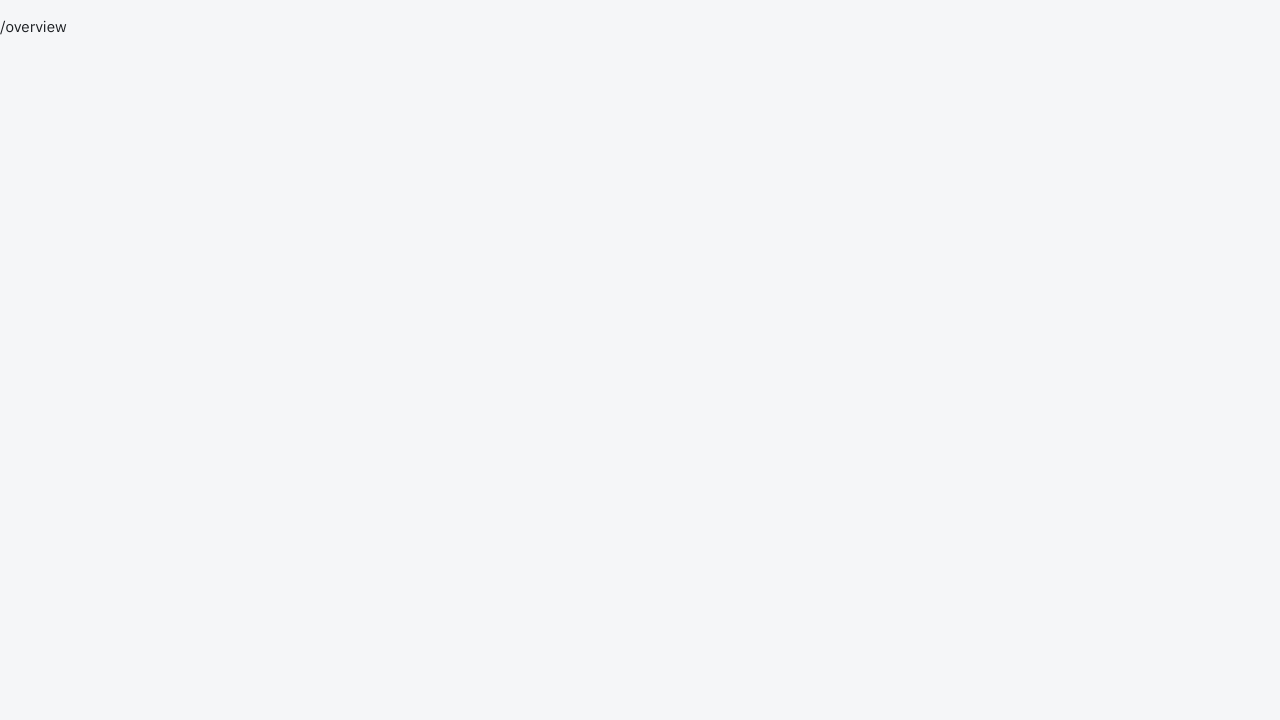
Test: CommandPalette › ranks matches and navigates on Enter
The image size is (1280, 720).
Press k
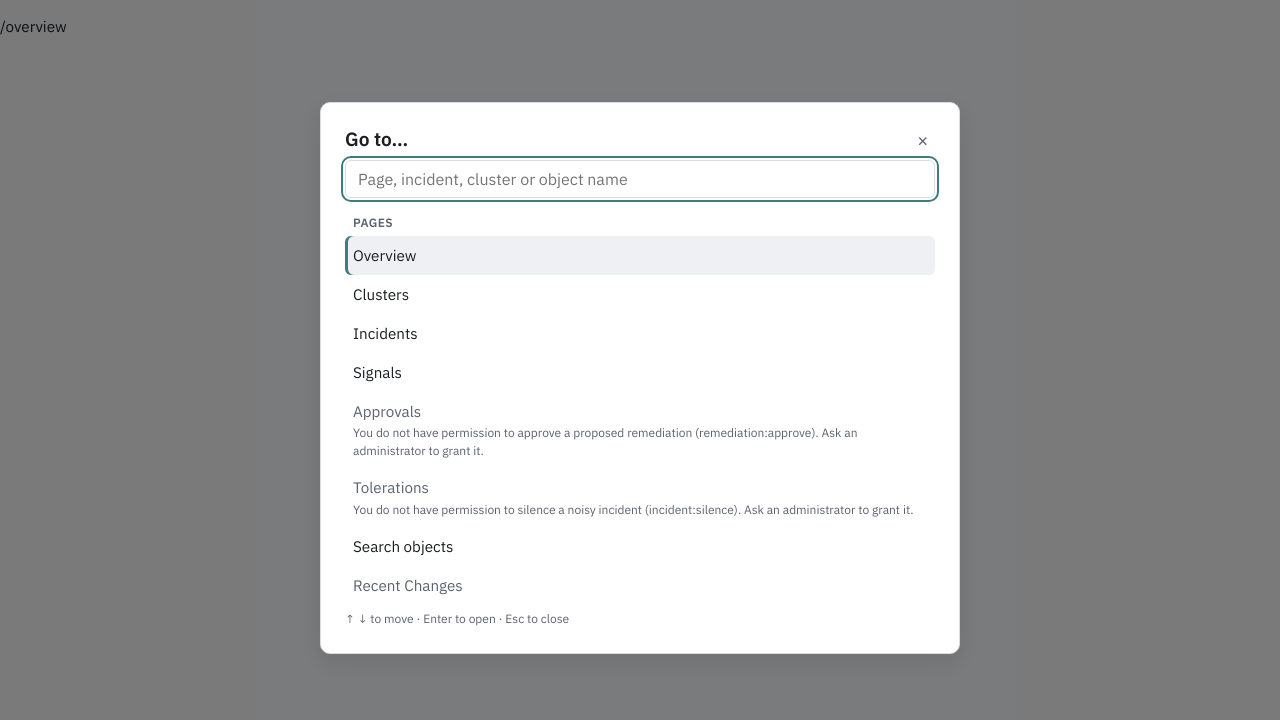
In the dropdown: (640, 179) [345,160,935,198], type "prod"
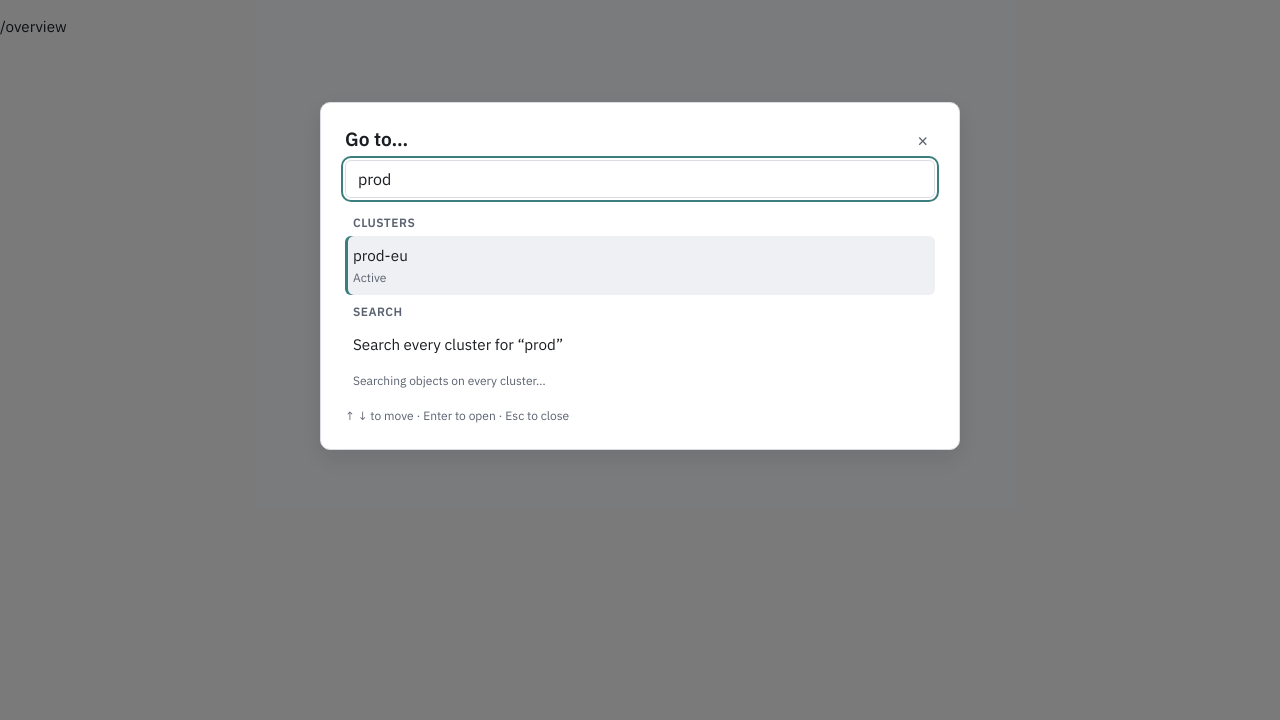
Result: the option "prod-eu Active" is shown at [345,236,935,295]
Press Enter in the dropdown, box [345,160,935,198]
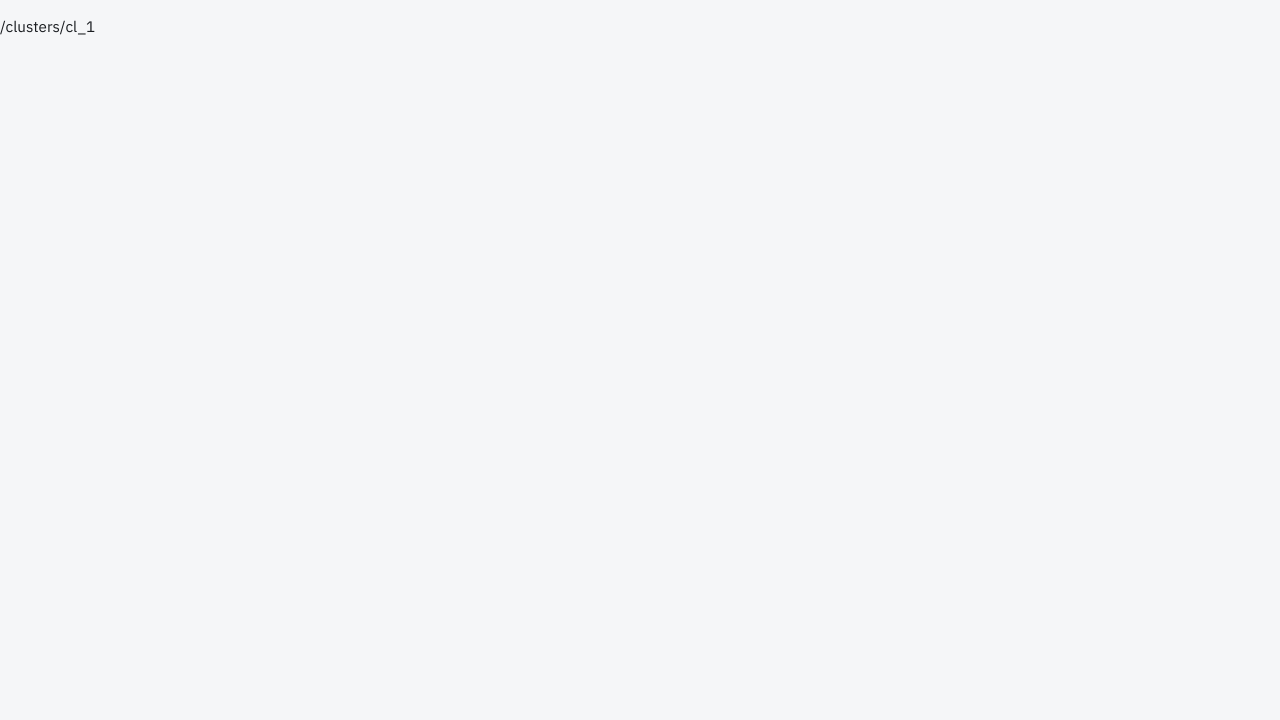
Result: the text with test id "loc" reads "/clusters/cl_1" at [0,16,95,36]
Result: the dialog is gone
